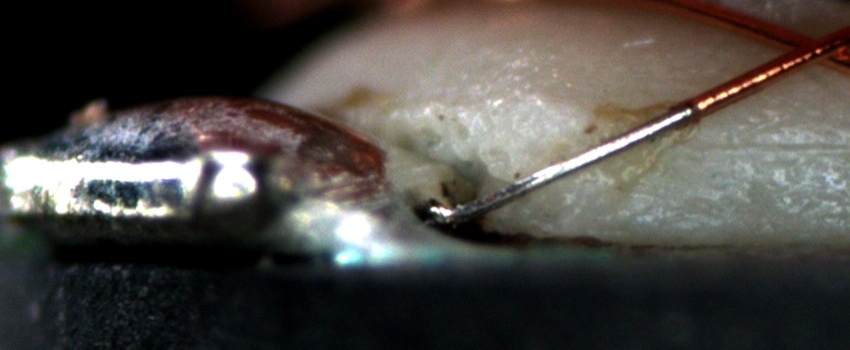CL: (762, 20, 845, 74)
DL: (704, 116, 850, 176)
TS: (434, 101, 696, 225)
